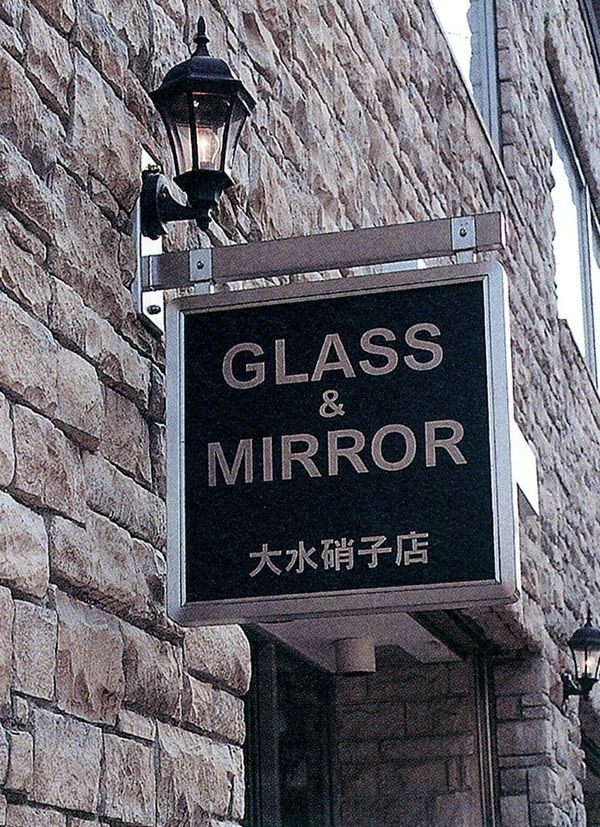text: (225, 320, 240, 395), (241, 320, 256, 395), (257, 320, 272, 395), (273, 320, 288, 395), (289, 320, 304, 395), (305, 320, 320, 395), (321, 320, 336, 395), (337, 320, 352, 395), (353, 320, 368, 395), (369, 320, 384, 395), (385, 320, 400, 395), (401, 320, 416, 395), (417, 320, 432, 395), (433, 320, 448, 395), (209, 418, 224, 490), (225, 418, 240, 490), (241, 418, 256, 490), (257, 418, 272, 490), (273, 418, 288, 490), (289, 418, 304, 490), (305, 418, 320, 490), (321, 418, 336, 490), (337, 418, 352, 490), (353, 418, 368, 490), (369, 418, 384, 490), (385, 418, 400, 490), (401, 418, 416, 490), (417, 418, 432, 490), (433, 418, 448, 490), (449, 418, 464, 490), (417, 531, 433, 580), (257, 531, 272, 580), (273, 531, 288, 580), (289, 531, 304, 580), (305, 531, 320, 580), (321, 531, 336, 580), (337, 531, 352, 580), (353, 531, 368, 580), (369, 531, 384, 580), (385, 531, 400, 580), (401, 531, 416, 580), (246, 531, 256, 580), (321, 389, 336, 421), (203, 418, 208, 490), (465, 418, 470, 490), (337, 389, 347, 421), (220, 320, 224, 395), (318, 389, 320, 421)
